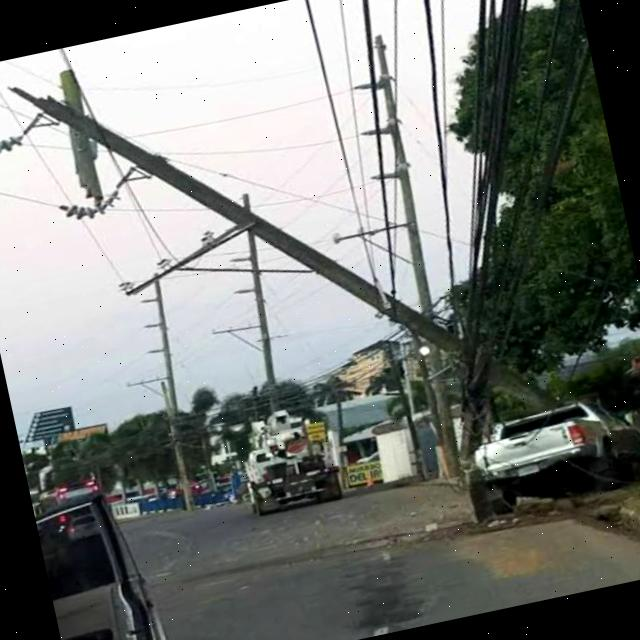Broken Pole: (0, 0, 640, 519)
